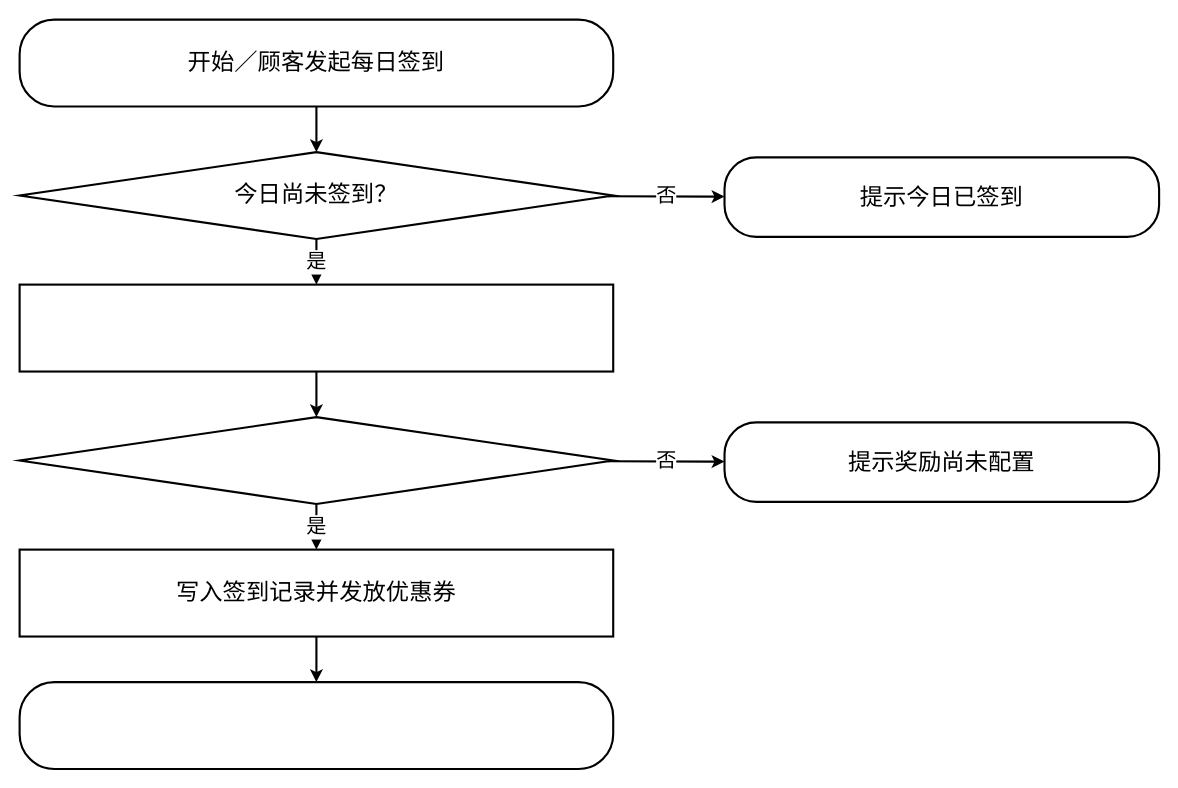
The diagram is 1178 pixels wide and 788 high, and some of its shapes have lost their labels. Each missing label, with the centre of its shape:
"下单时核验并抵扣" goes at pixel 316 725.
"奖励规则已配置？" goes at pixel 316 460.
"读取连续签到天数" goes at pixel 316 327.
